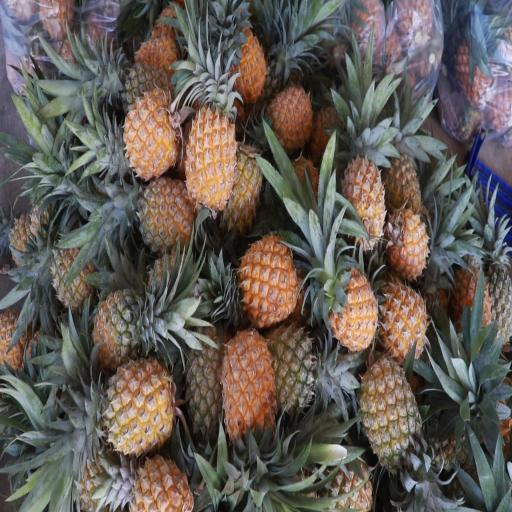------------------------------: (357, 348, 426, 482), (175, 300, 235, 428), (88, 284, 151, 375), (39, 238, 99, 315)
Pineapple - v8 v1: (90, 354, 176, 457), (220, 312, 277, 454), (180, 84, 236, 212), (123, 158, 196, 252), (234, 231, 300, 327), (338, 134, 388, 257), (324, 248, 379, 354), (121, 77, 175, 181), (122, 436, 190, 512), (377, 263, 428, 355), (262, 65, 315, 147), (383, 195, 432, 279), (223, 4, 267, 88)
